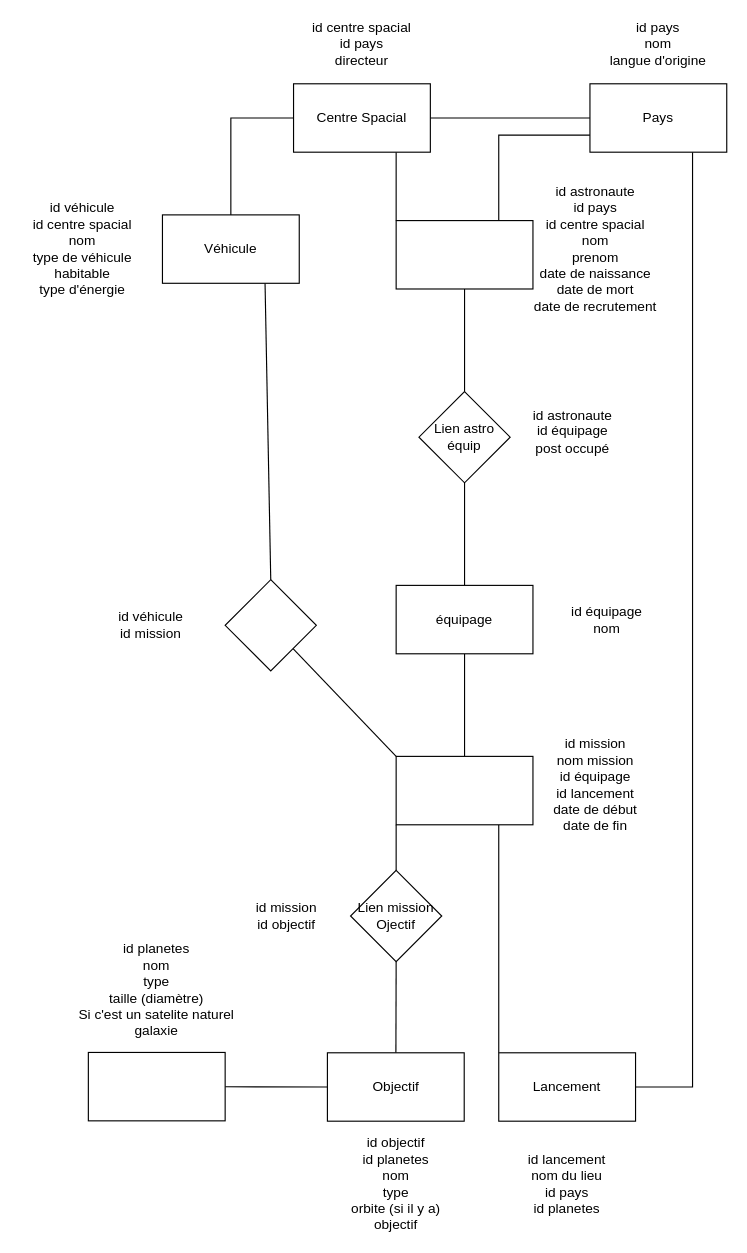
The diagram is 747 pixels wide and 1253 high, and some of its shapes have lost their labels. Here are the shapes that lost their labels. From the top down, the box of each, then its label:
(395, 219, 533, 289): Astronaute
(224, 579, 316, 671): Lien véhicule mission
(395, 755, 533, 825): Mission
(87, 1051, 225, 1121): Planetes
